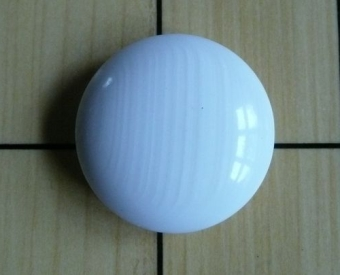white: (69, 31, 280, 237), (78, 36, 272, 230)
